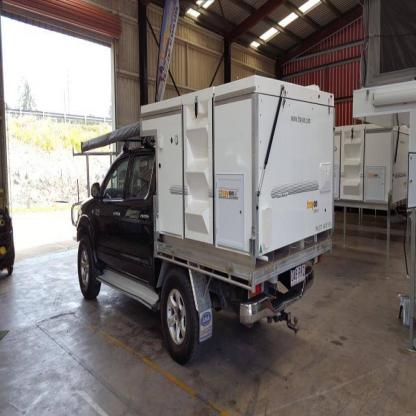light_vehicle: (66, 72, 335, 368)
